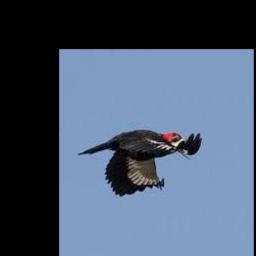Woodpecker: (77, 129, 201, 197)
